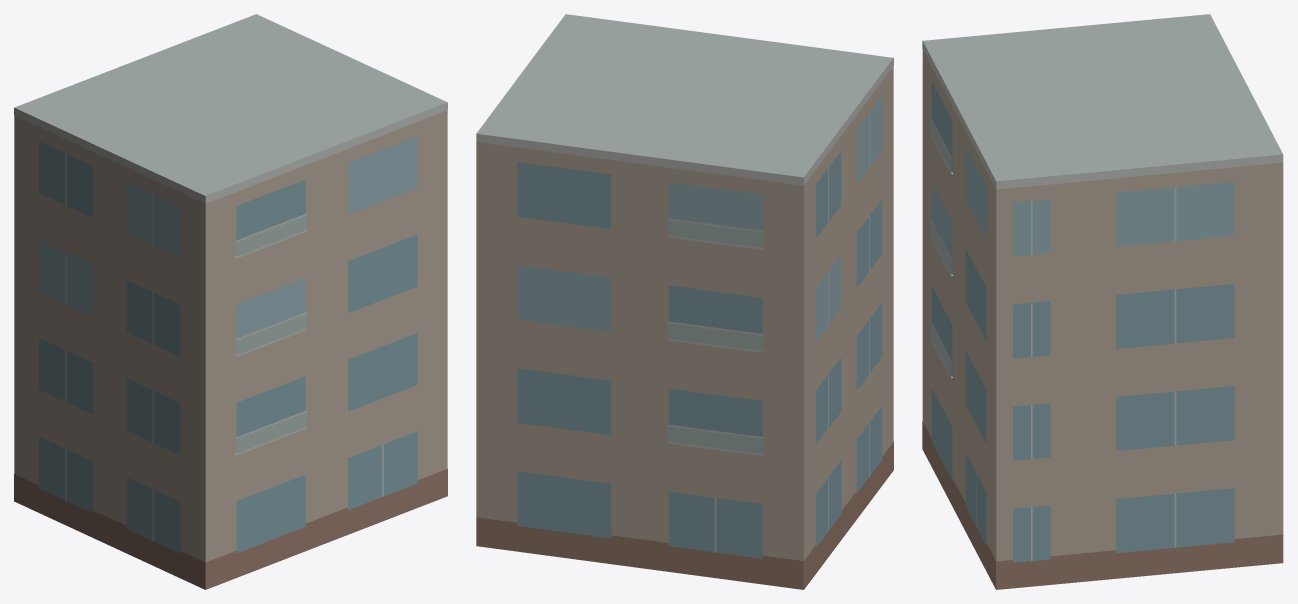
Rendered from residential-d51d3e4f-e82c-4206-abfd-5ceb80f8b3c4.glb.
The picture shows the model from 3 angles, left to right: view 1: azimuth 30°, elevation 25°; view 2: azimuth 150°, elevation 25°; view 3: azimuth 270°, elevation 25°; orthographic projection. The views are drawn at different scales.
Parts seen in each view (by area): view 1: residential-d51d3e4f-e82c-4206-abfd-5ceb80f8b3c4.tmp; view 2: residential-d51d3e4f-e82c-4206-abfd-5ceb80f8b3c4.tmp; view 3: residential-d51d3e4f-e82c-4206-abfd-5ceb80f8b3c4.tmp.
Part boxes in pixels (<box>): residential-d51d3e4f-e82c-4206-abfd-5ceb80f8b3c4.tmp: <box>14,14,447,589</box>; residential-d51d3e4f-e82c-4206-abfd-5ceb80f8b3c4.tmp: <box>476,14,893,589</box>; residential-d51d3e4f-e82c-4206-abfd-5ceb80f8b3c4.tmp: <box>922,14,1283,589</box>.
Bounding box in the file's own units: 10.73 × 12.2 × 9.77.
